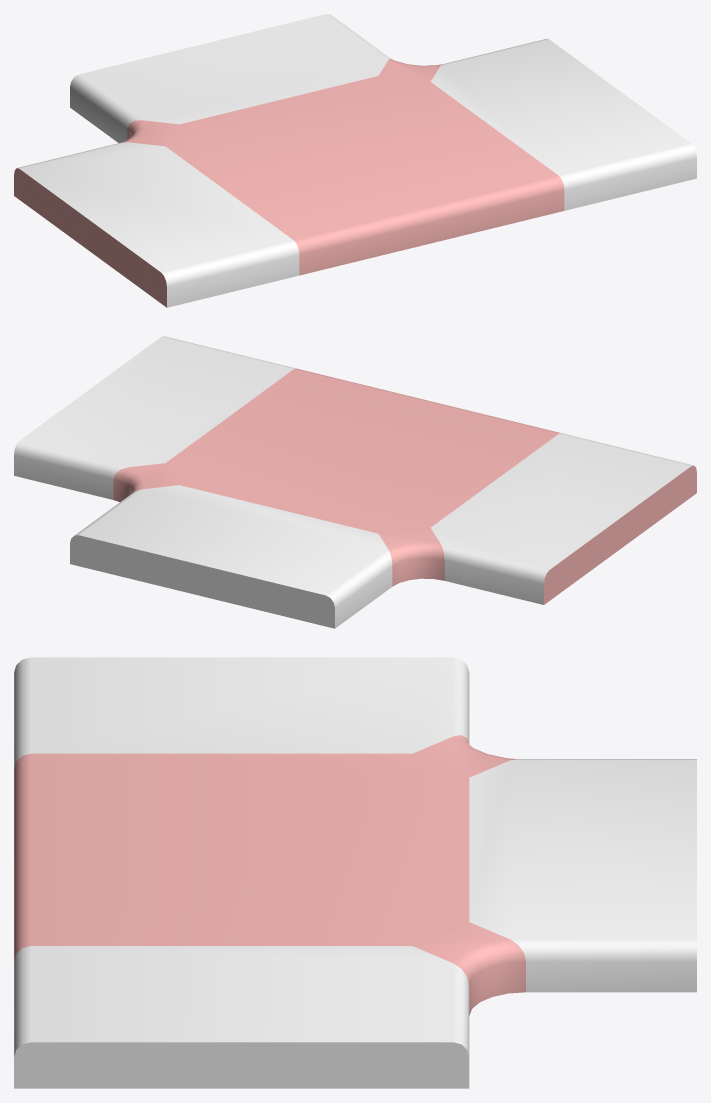
Rendered from IntersectionSmall_red.fbx.
The picture shows the model from 3 angles, top to bottom: view 1: azimuth 30°, elevation 25°; view 2: azimuth 150°, elevation 25°; view 3: azimuth 270°, elevation 25°; orthographic projection. The views are drawn at different scales.
Visible parts, largest first — view 1: IntersectionSmall_red; view 2: IntersectionSmall_red; view 3: IntersectionSmall_red.
Part boxes in pixels (x1=…): IntersectionSmall_red: x1=14, y1=14, x2=696, y2=307; IntersectionSmall_red: x1=14, y1=336, x2=696, y2=628; IntersectionSmall_red: x1=14, y1=657, x2=696, y2=1088.
Size of the model in its own units: 600 by 33.61 by 450.
1 material, 1 textured.
